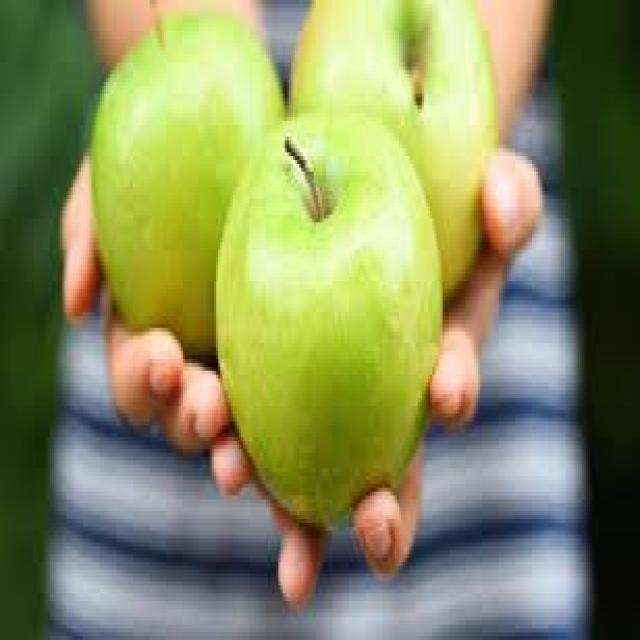maca: (87, 0, 499, 531), (212, 98, 443, 530), (87, 4, 285, 355), (286, 0, 498, 300)
